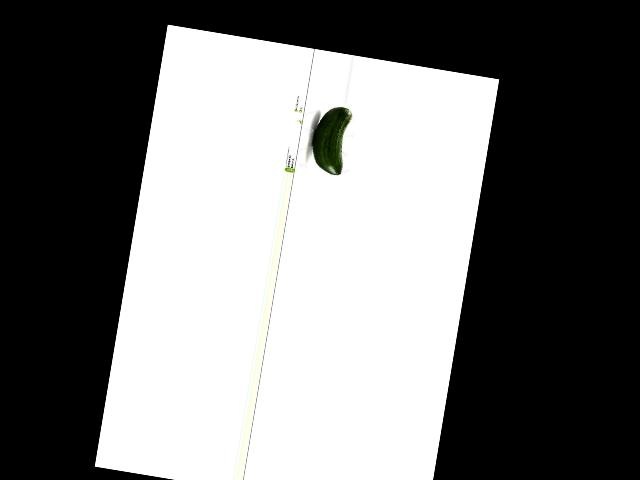cucumber: (307, 103, 352, 175)
